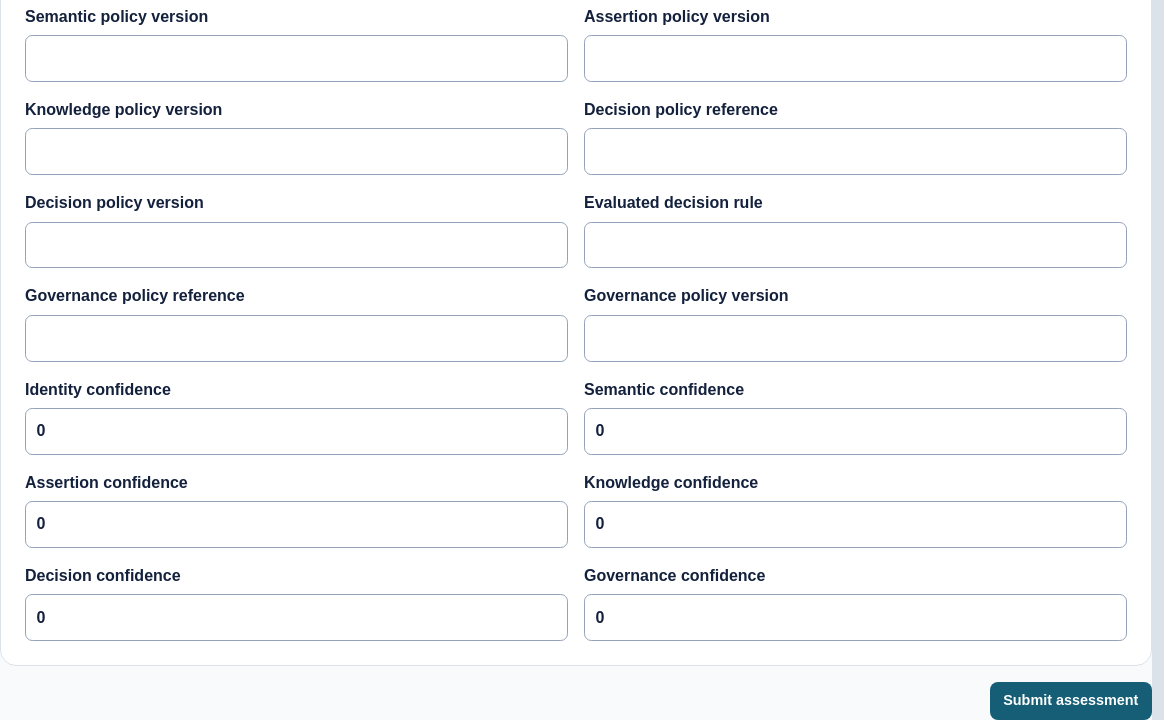
Test case: shows governed fields and accessible validation summary
(page scrolled)
Click the button "Submit assessment" at (1071, 701), box x1=990 y1=682 x2=1152 y2=719
(page scrolled)
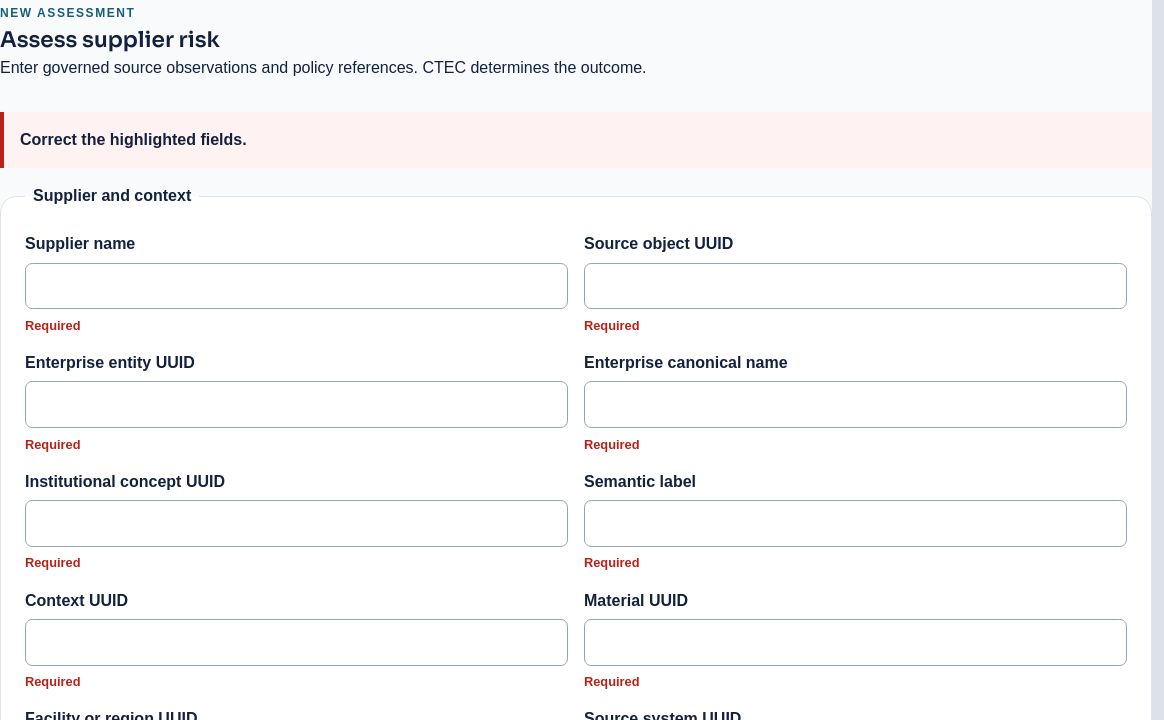
Expected: the message shows "Correct the highlighted fields", x1=20 y1=131 x2=247 y2=148
